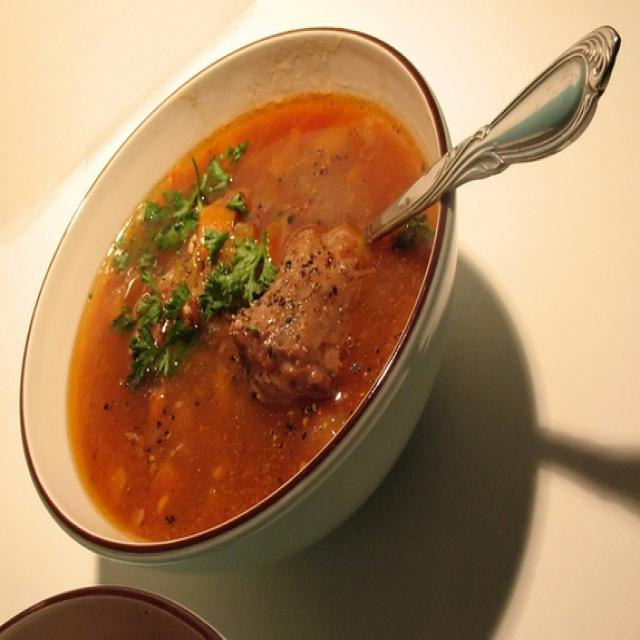汤锅炖物: (21, 23, 455, 564)
